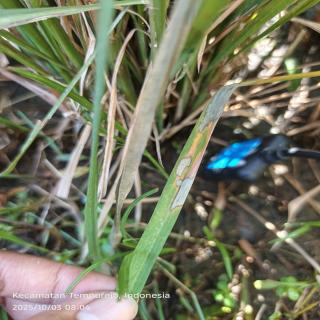Blast: (157, 157, 204, 216), (193, 83, 242, 136)
